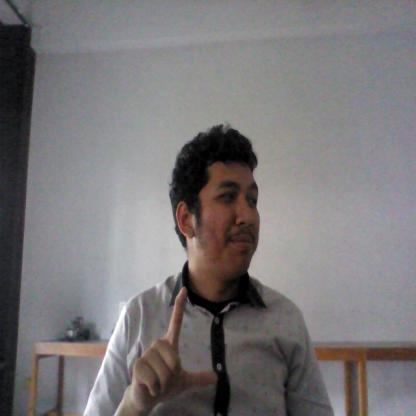L: (124, 282, 219, 412)
